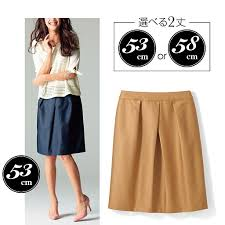C_skirt: (106, 91, 210, 223), (31, 91, 96, 161)
